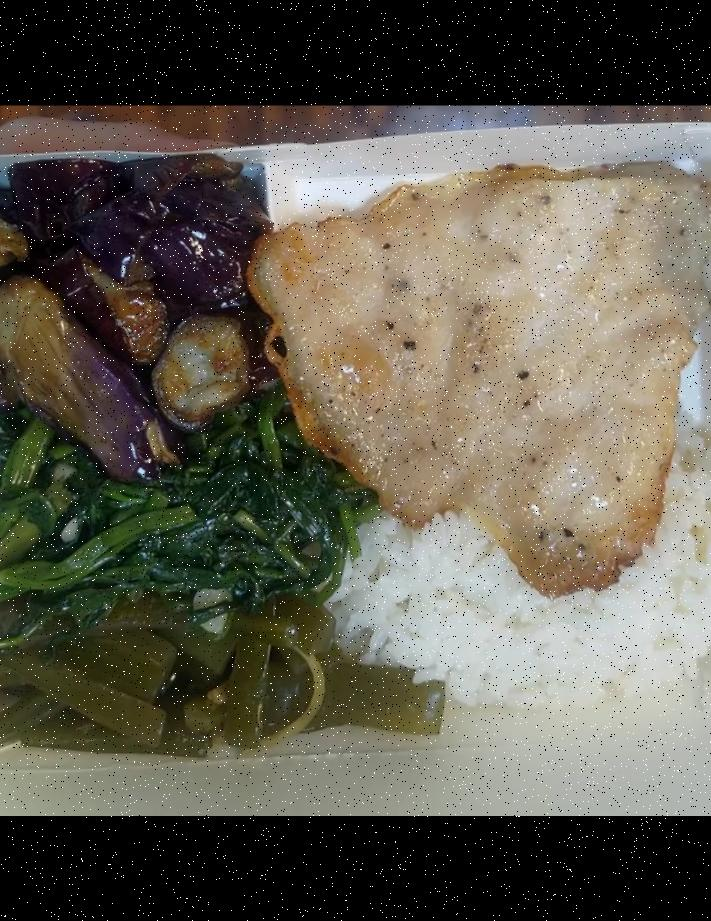big grilled chicken leg: (0, 105, 711, 816)
big herbal chicken leg: (330, 401, 711, 703)
braised fish fillet: (0, 135, 273, 473), (0, 580, 449, 761), (0, 410, 369, 626)
braised pork: (258, 141, 711, 593)
